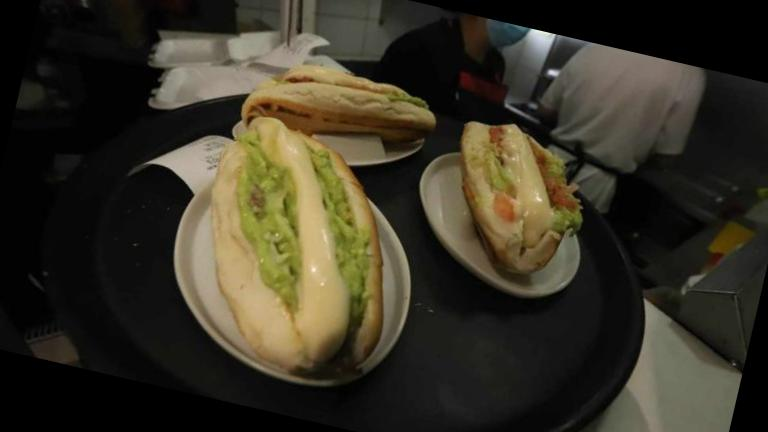Completos: (172, 113, 422, 382), (421, 112, 601, 298), (222, 44, 440, 164)
